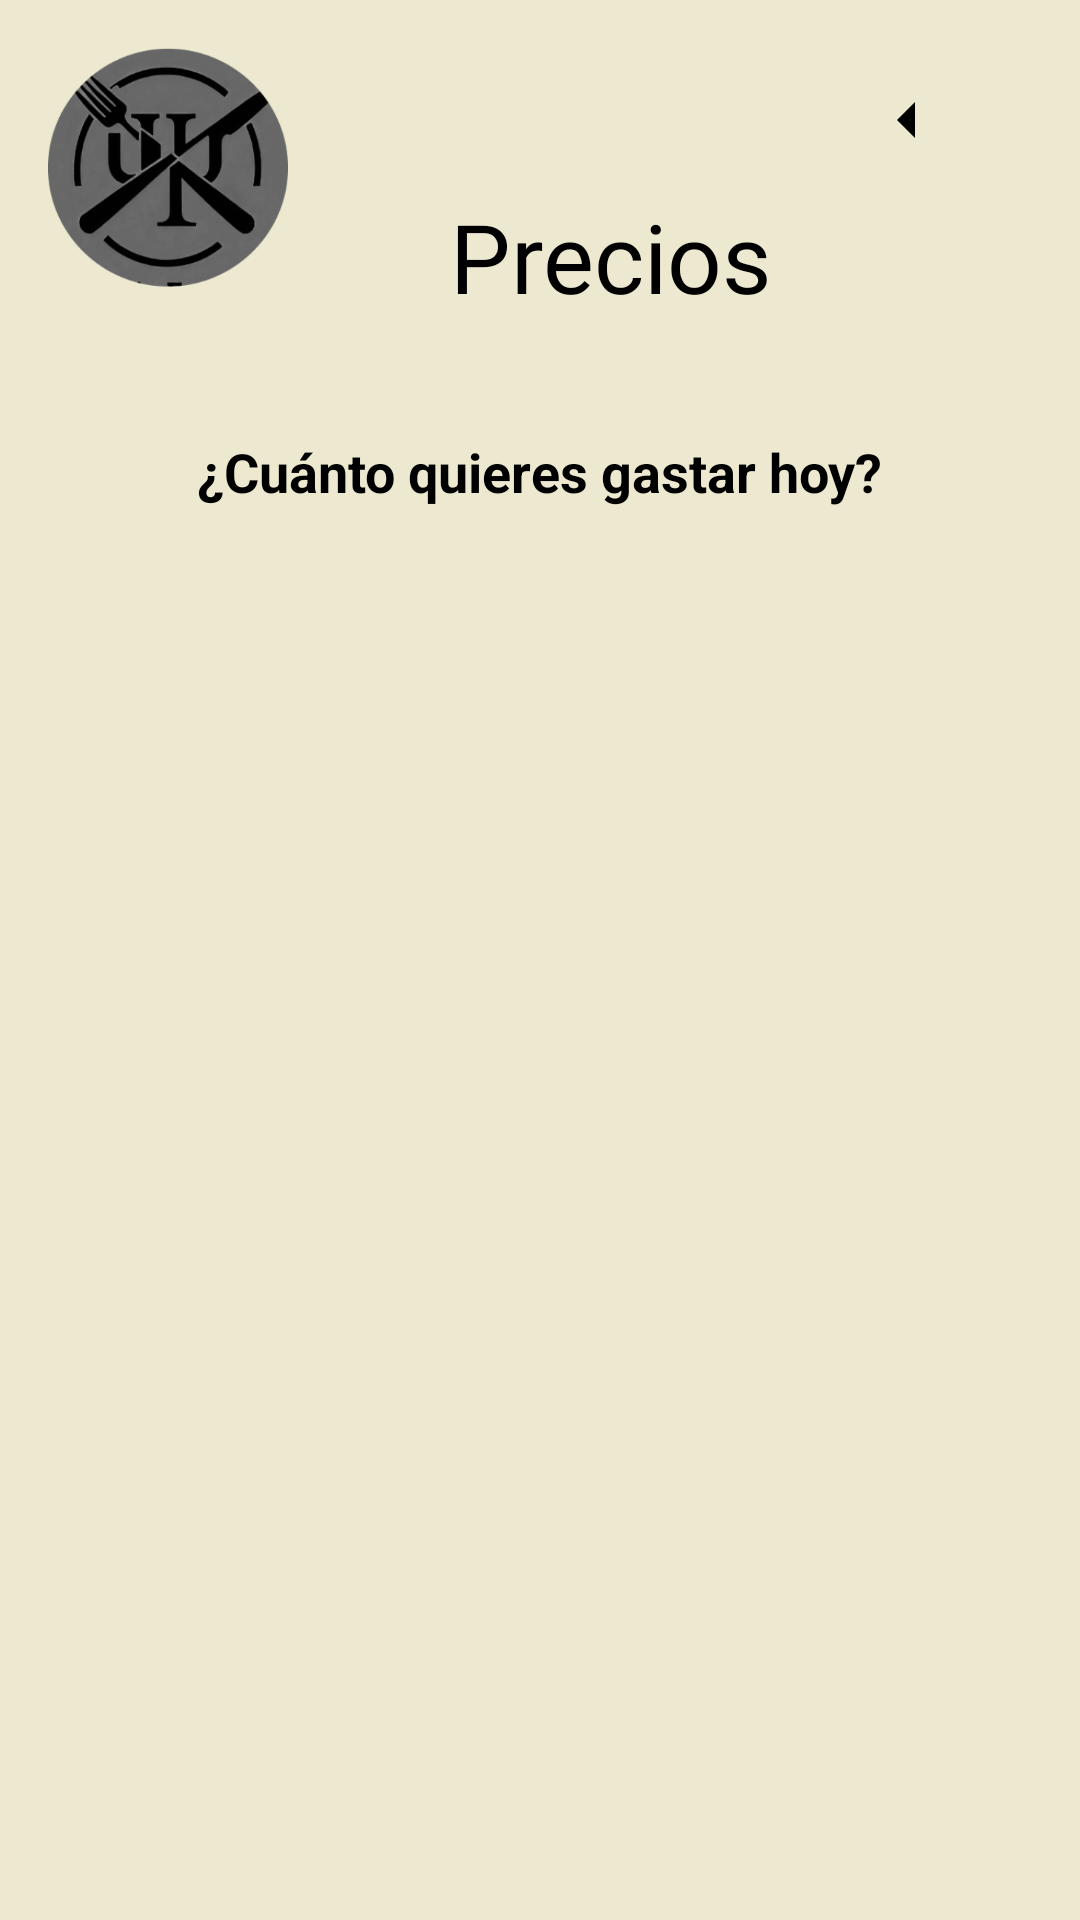

Locate icon controls on the screen. Image size 1080px×1920px, boxes as bbox=(x1, y1, x2, y2).
Regresar: bbox=(897, 102, 915, 138)
